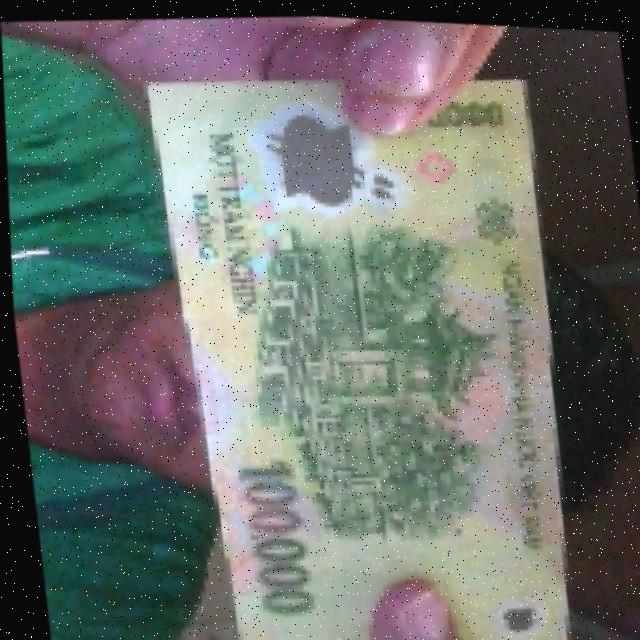100 000 VND: (143, 46, 594, 640)
